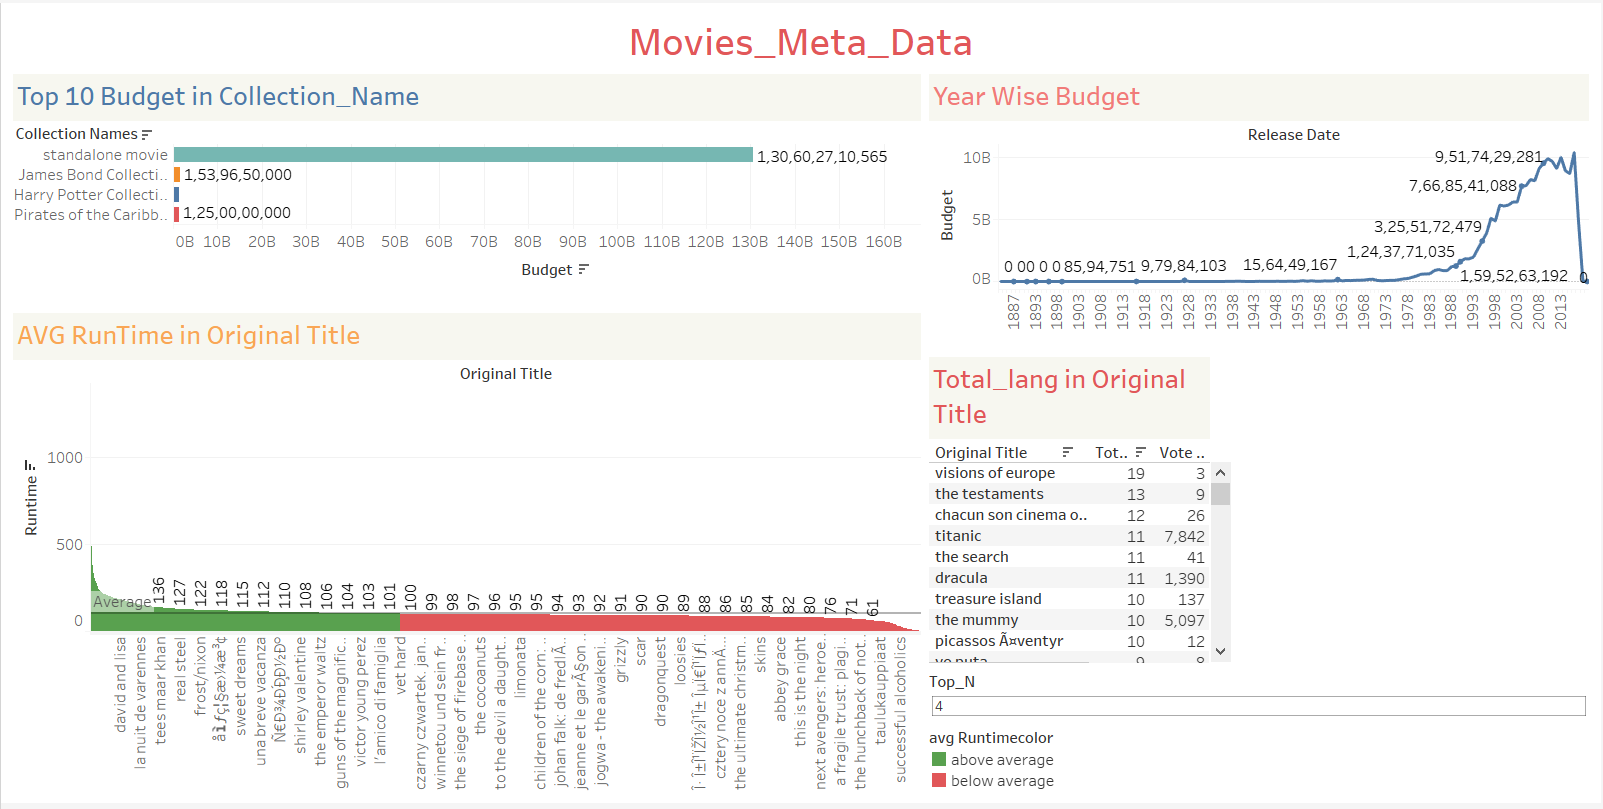

The page's visual inventory and layout, read from the dashboard file:
{"tool":"tableau","page":{"name":"Dashboard 1","canvas":[1000,800],"ordinal":0},"visuals":[{"type":"worksheet","title":"Sheet 2","mark":"Automatic","rows":["runtime"],"cols":["original_title"],"box":[8,8,540,392]},{"type":"legend","title":"Sheet 2","param":"[federated.108dfua0p4niib1endoif0qcap22].[usr:Calculation_1326591617462849537:nk","box":[548,8,444,72]},{"type":"worksheet","title":"Sheet 3","mark":"Line","rows":["budget"],"cols":["release_date"],"box":[548,80,444,342]},{"type":"worksheet","title":"Sheet 1","mark":"Automatic","rows":["collection_names"],"cols":["budget"],"box":[8,400,540,392]},{"type":"worksheet","title":"Sheet 5","mark":"Automatic","rows":["original_title"],"box":[548,422,444,314]},{"type":"parameter","param":"[Parameters].[Top N (copy)]","box":[548,736,444,56]}]}

Visuals, with their boxes on the page's 1000x800 design canvas (x1, y1, x2, y2). These are canvas units, not pixel positions in the 1603x809 screenshot, which may show the page scaled, cropped or inside an application window:
"Sheet 2" worksheet: x1=8 y1=8 x2=548 y2=400
"Sheet 2" legend: x1=548 y1=8 x2=992 y2=80
"Sheet 3" worksheet (Line marks): x1=548 y1=80 x2=992 y2=422
"Sheet 1" worksheet: x1=8 y1=400 x2=548 y2=792
"Sheet 5" worksheet: x1=548 y1=422 x2=992 y2=736
parameter: x1=548 y1=736 x2=992 y2=792
